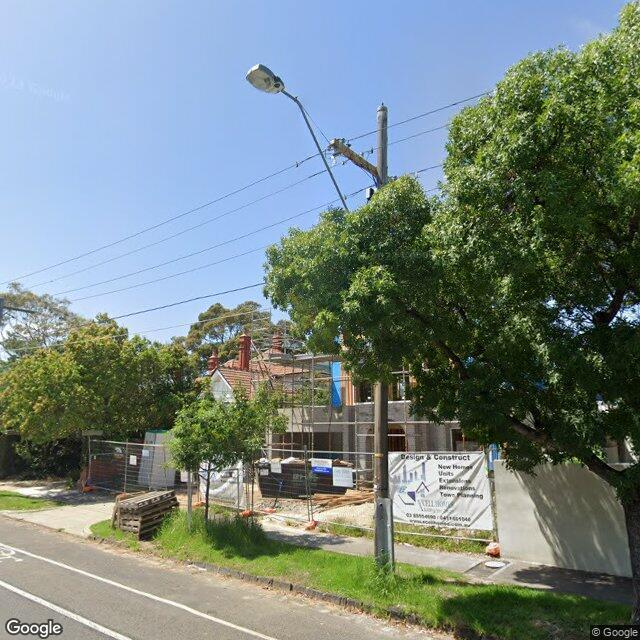crossarm: (295, 137, 377, 178)
streetlight: (244, 64, 350, 213)
timber-pole: (372, 106, 388, 576)
